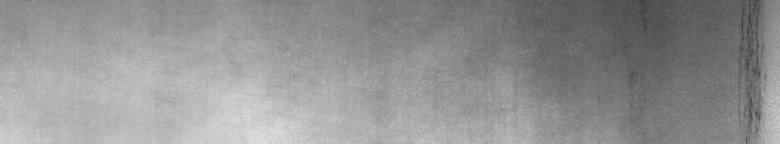ka: (733, 4, 768, 135)
